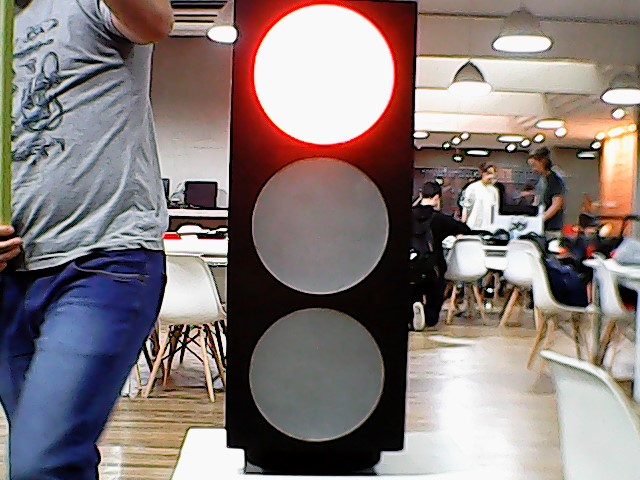vermelho: (222, 1, 421, 450)
